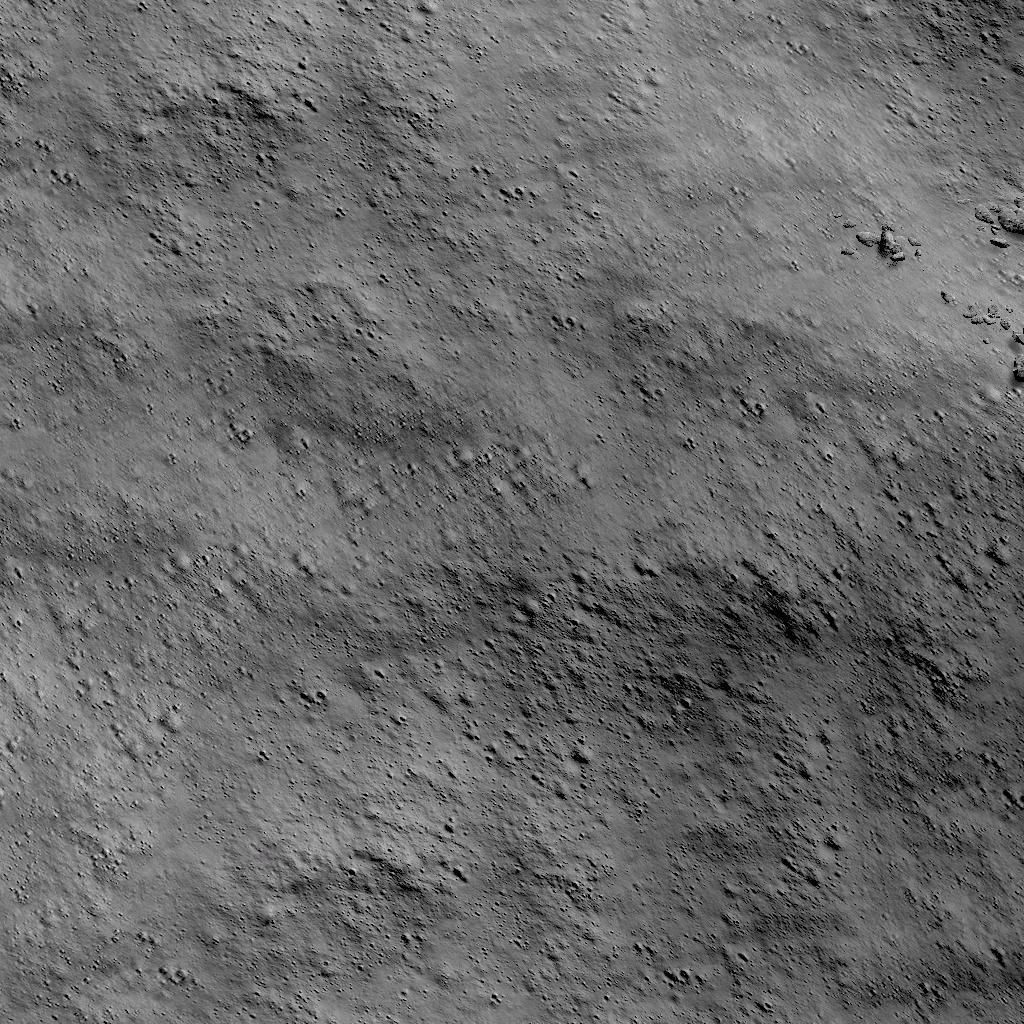Plan surface: (0, 403, 1024, 1024), (2, 0, 828, 380), (845, 0, 1024, 184)
